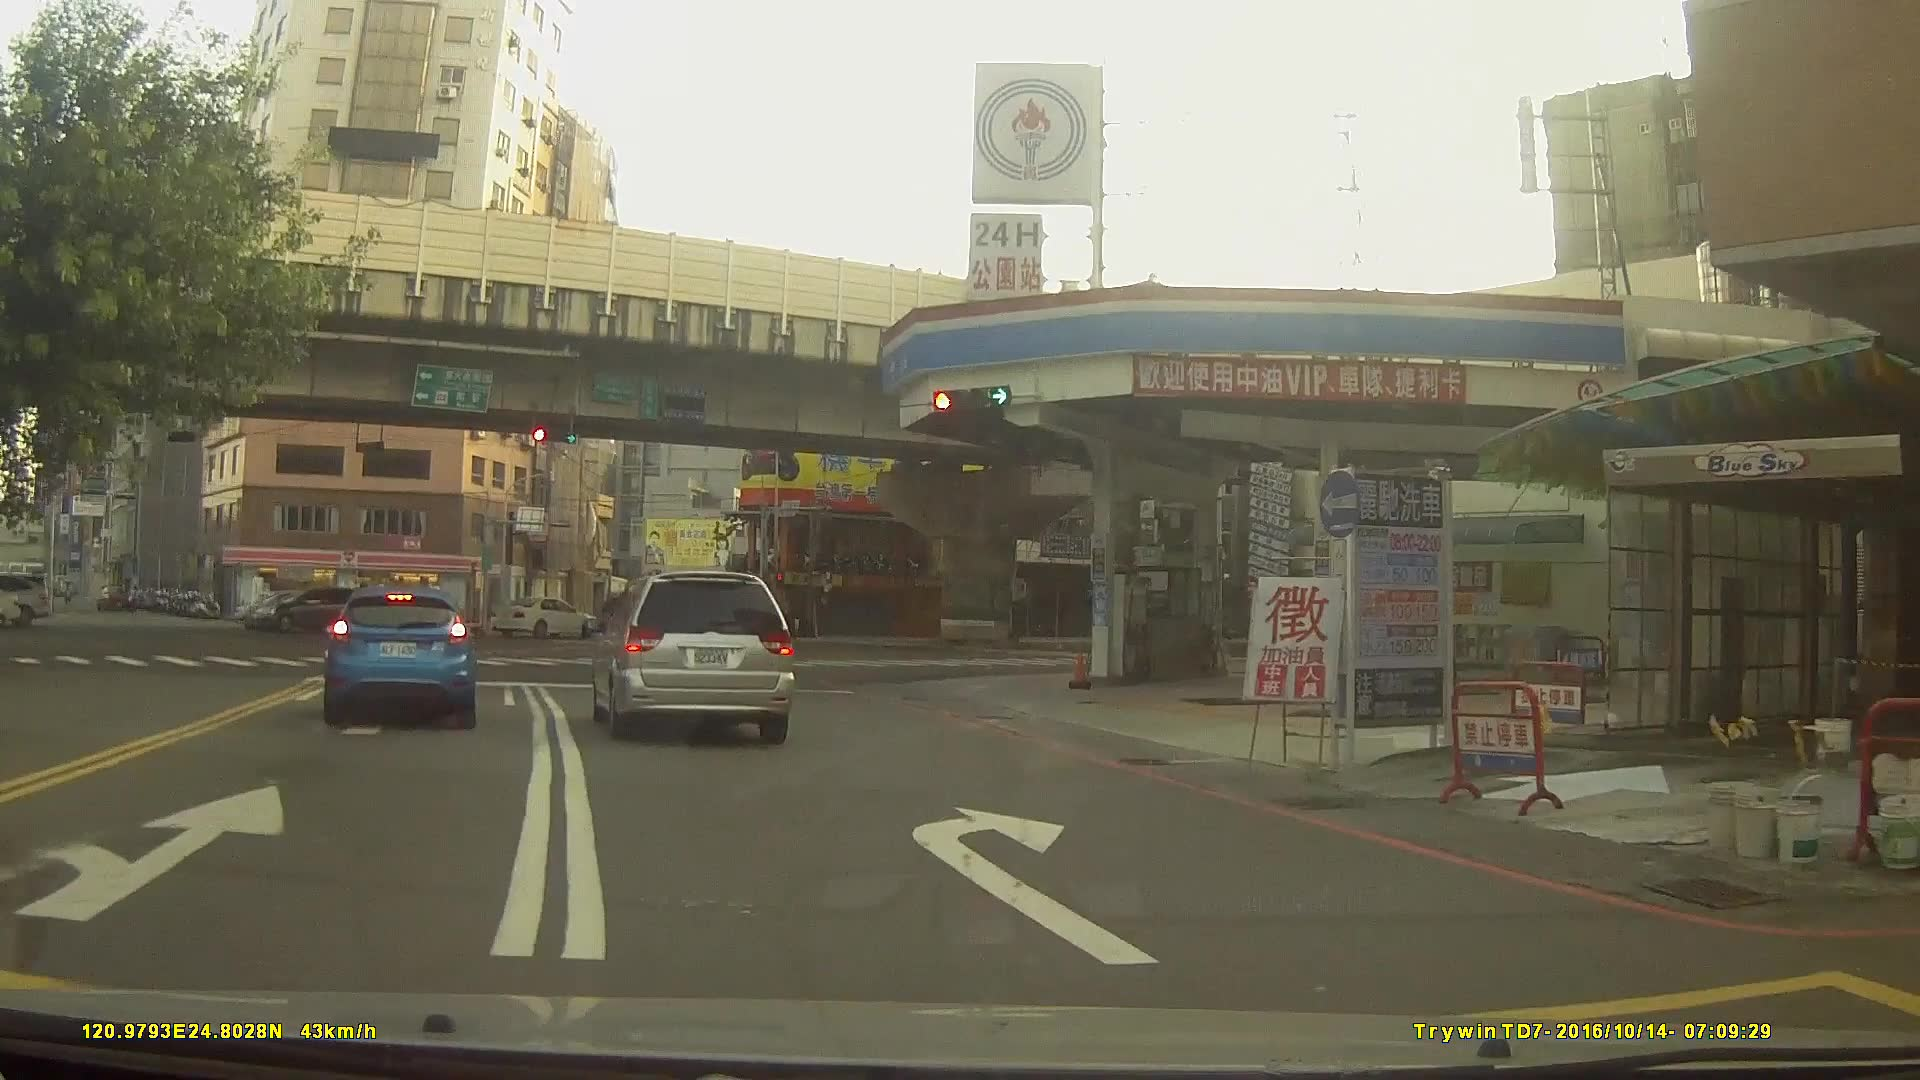vehicle: (589, 568, 795, 744), (319, 580, 479, 731), (245, 587, 371, 633), (489, 596, 597, 640)
